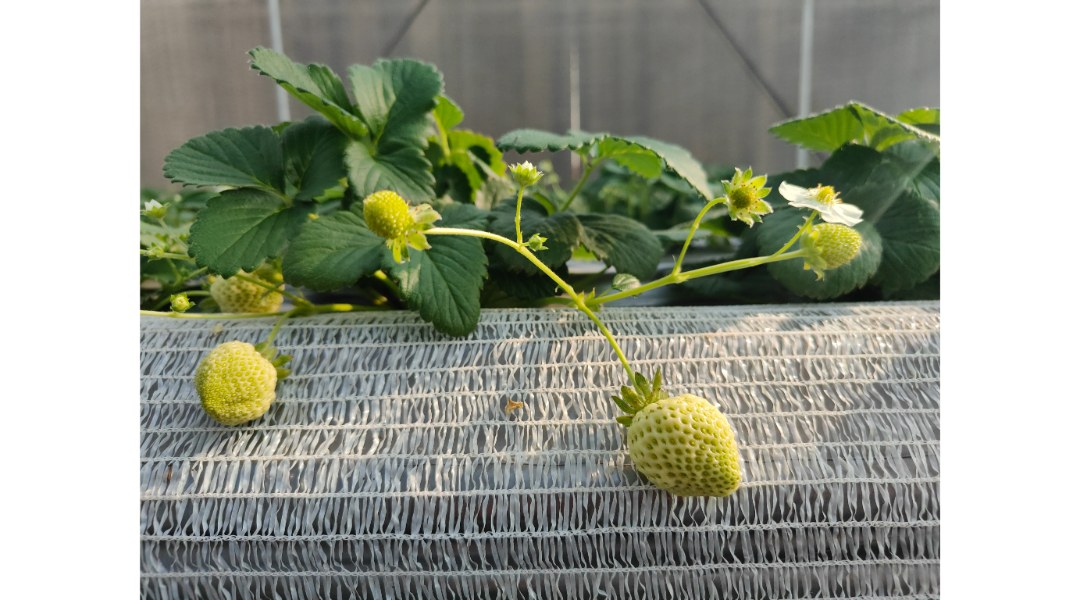berry: (604, 359, 754, 516), (186, 337, 282, 429), (339, 186, 428, 249), (520, 225, 550, 253)
flower: (772, 173, 868, 239), (713, 159, 772, 230), (502, 149, 548, 191)
strain: (581, 307, 645, 383), (691, 247, 800, 288), (447, 211, 505, 276), (605, 266, 664, 304), (540, 261, 576, 294)
